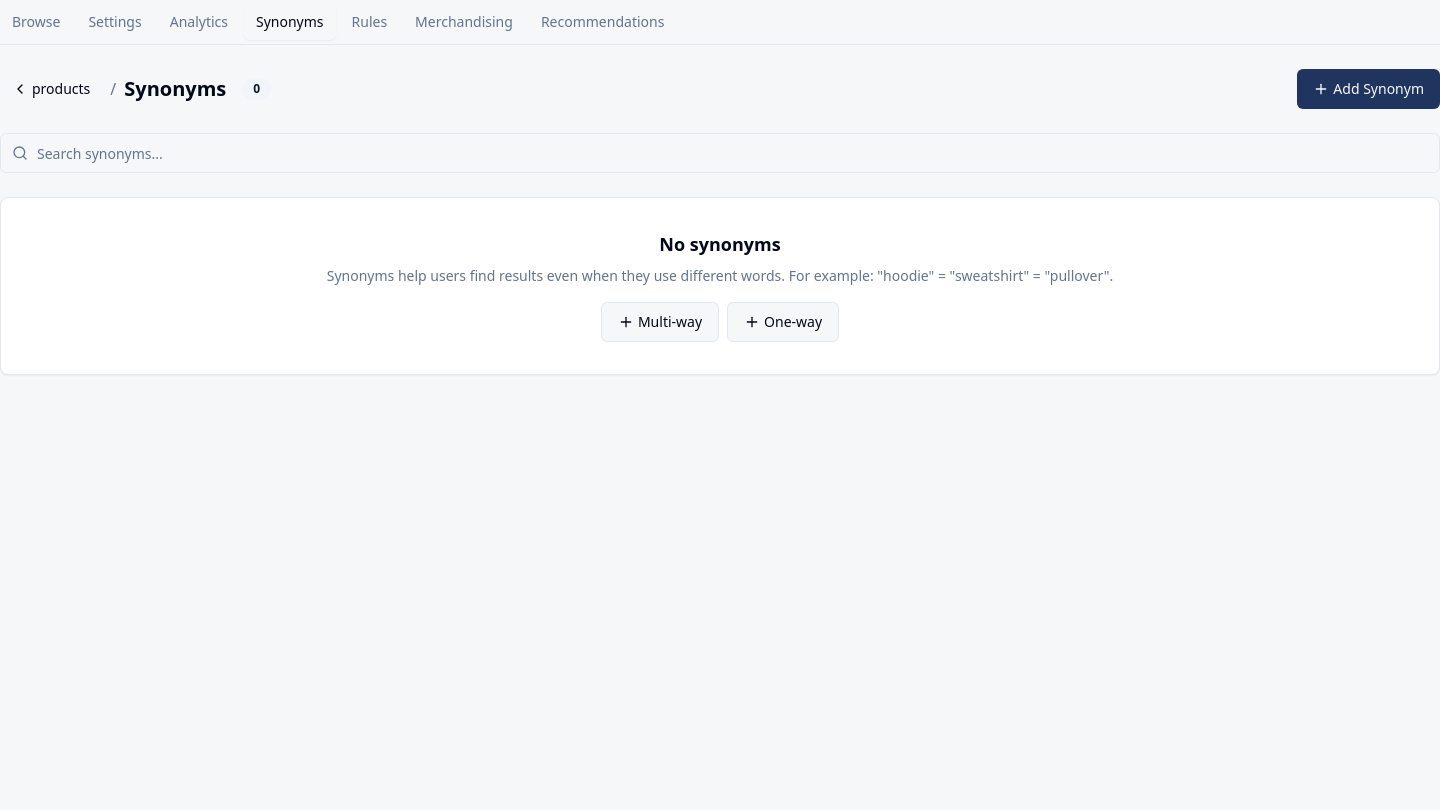
Synonyms › opens create dialog when Add Synonym is clicked
The width and height of the screenshot is (1440, 810).
Click the button "Add Synonym": (1369, 89) left=1297, top=69, right=1439, bottom=109
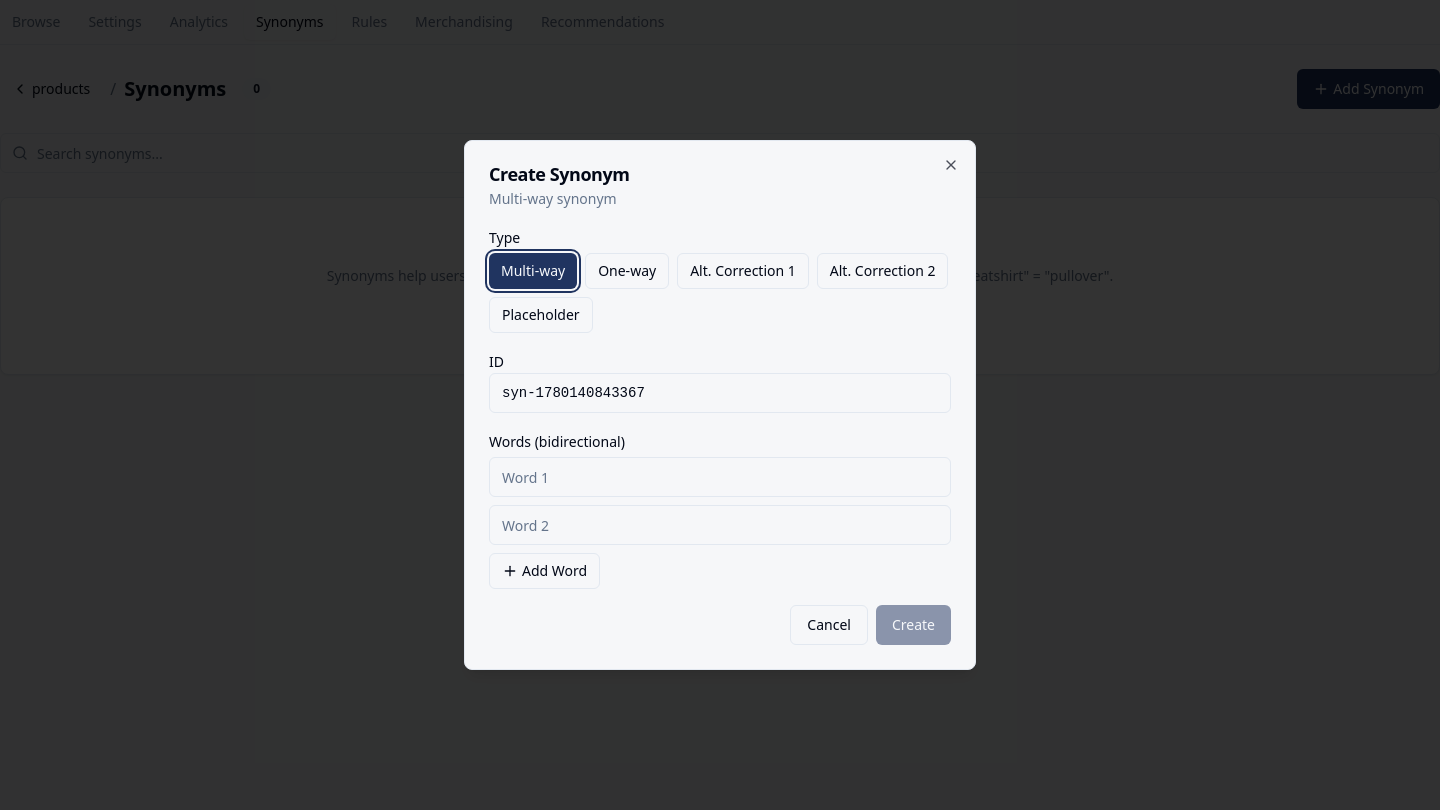
Expected: the dialog is shown, left=464, top=140, right=976, bottom=670
